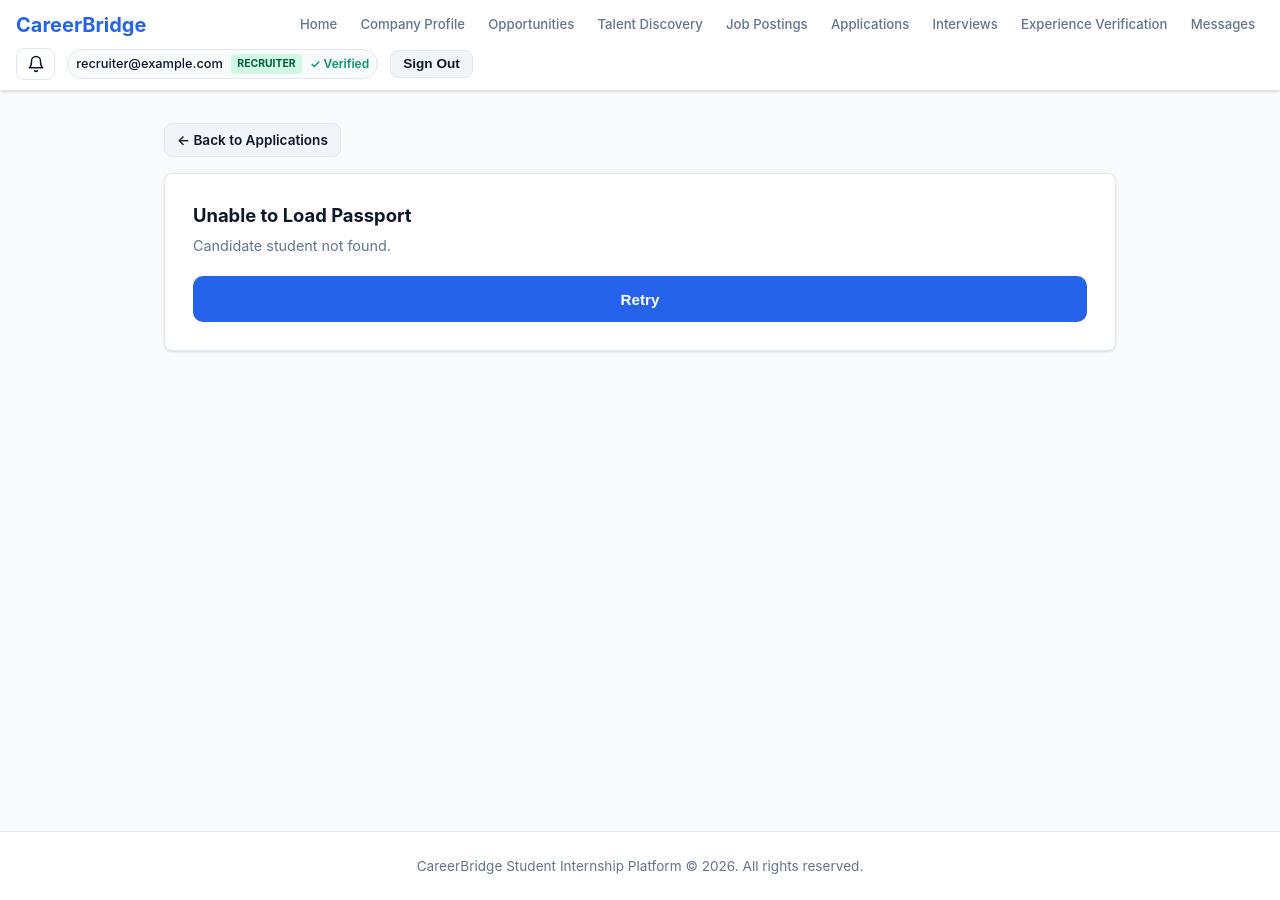
it: Experience Passport Routing and Role Protection › /app/passport/:studentId (Authenticated Read-Only Route) › displays error message and supports retry when candidate passport fetch fails
The image size is (1280, 900).
Expected: the message "Unable to Load Passport Candidate student not found. Retry" is shown, [164, 172, 1116, 351]
Expected: the text "Candidate student not found." is shown, [193, 237, 391, 254]
// Click Retry
Click the button with test id "passport-retry-button" at (640, 299), box [193, 276, 1087, 322]
(page scrolled)
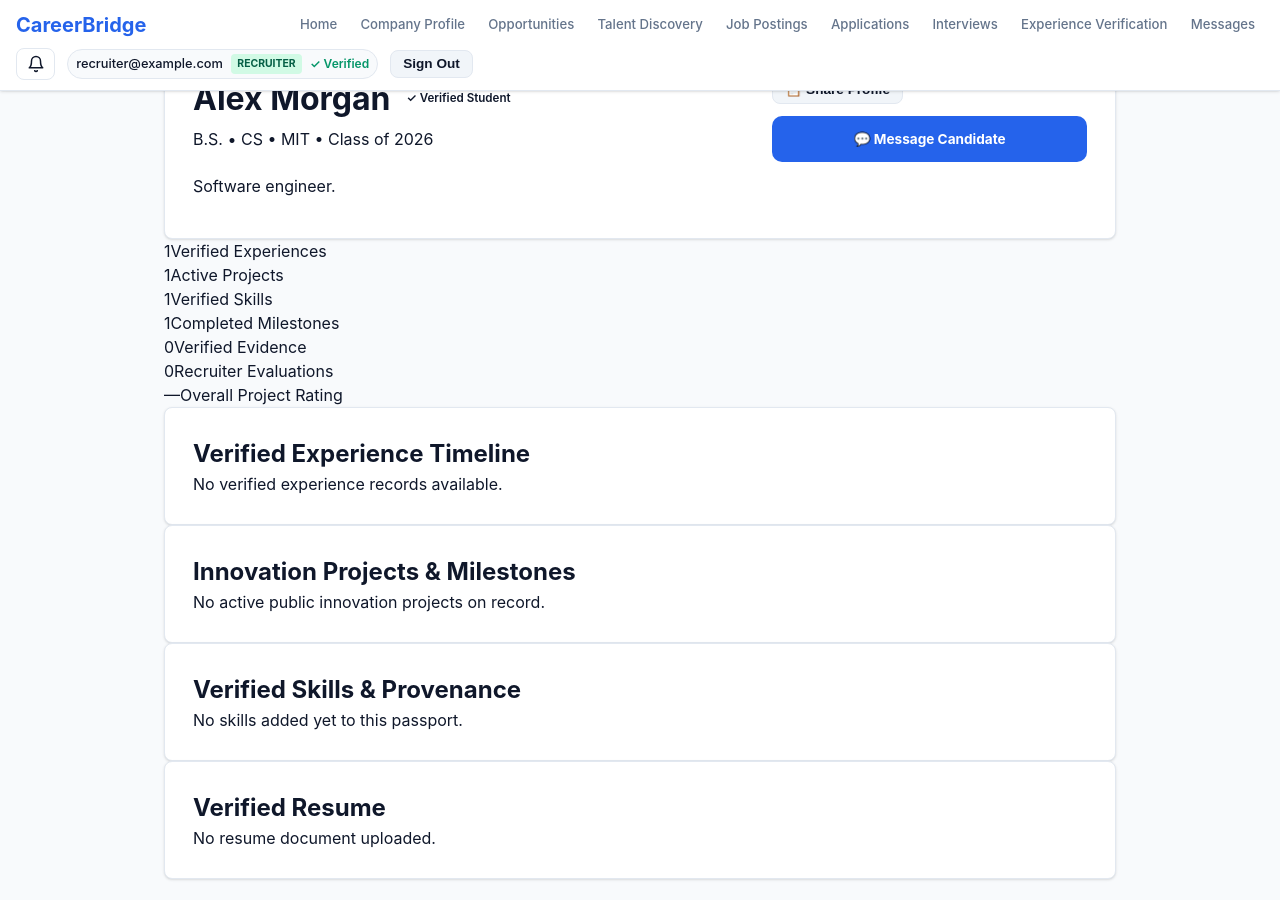
Expected: the element with test id "passport-content" is shown
